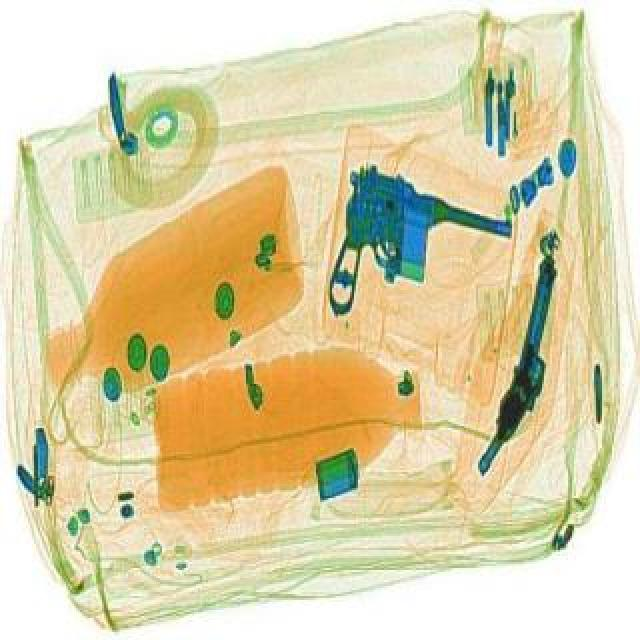gun: (314, 160, 522, 348), (474, 252, 574, 480)
